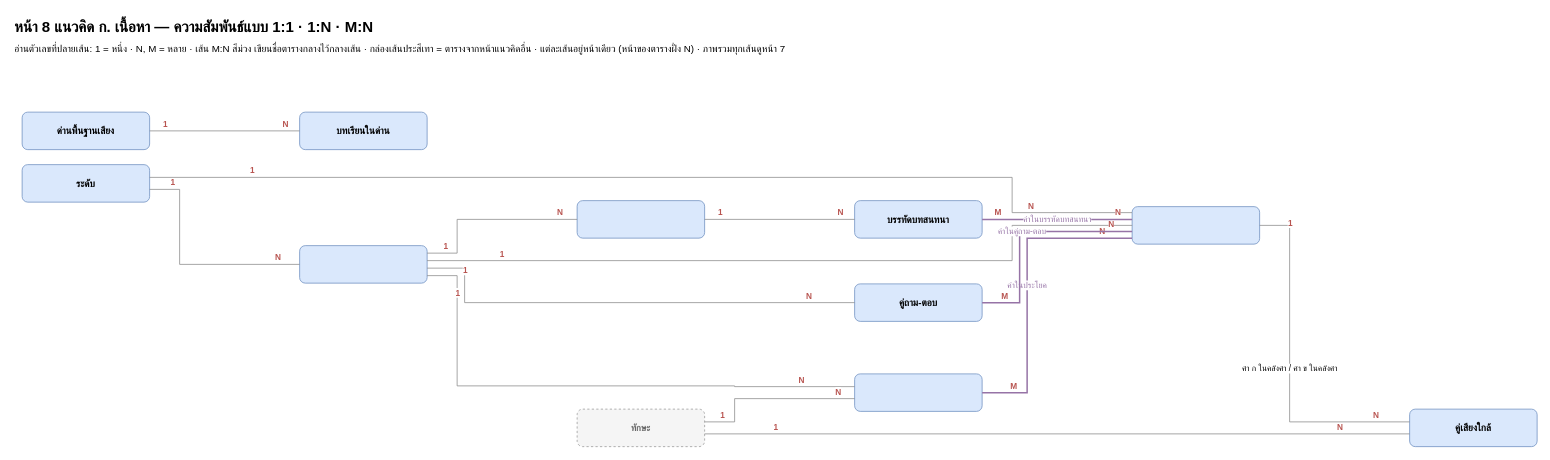
Some shapes in this 1550 by 460 pixel diagram are drawn without their labels. The centre of each missing label's shape, as x and y in pixels:
คำศัพท์: [1195,225]
บทสนทนา: [640,219]
ประโยค: [918,392]
หมวด: [363,264]
